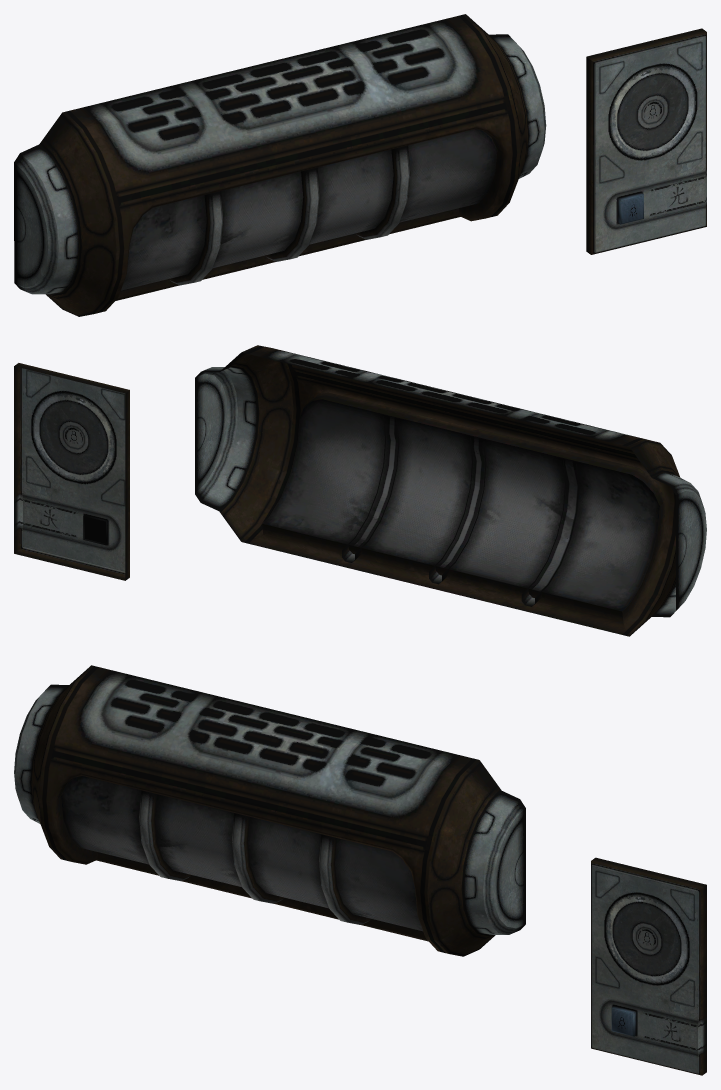
Rendered from lamp_bed_curie.dae.
The picture shows the model from 3 angles, top to bottom: view 1: azimuth 30°, elevation 25°; view 2: azimuth 150°, elevation 25°; view 3: azimuth 330°, elevation 25°; orthographic projection. The views are drawn at different scales.
Visible parts, largest first — view 1: polySurface3; view 2: polySurface3; view 3: polySurface3.
Boxes of the visible parts, left/top/right/bottom form: polySurface3: left=14, top=14, right=706, bottom=316; polySurface3: left=14, top=345, right=706, bottom=636; polySurface3: left=14, top=665, right=706, bottom=1075.
Bounding box in the file's own units: 0.5116 × 0.1896 × 0.0701.
